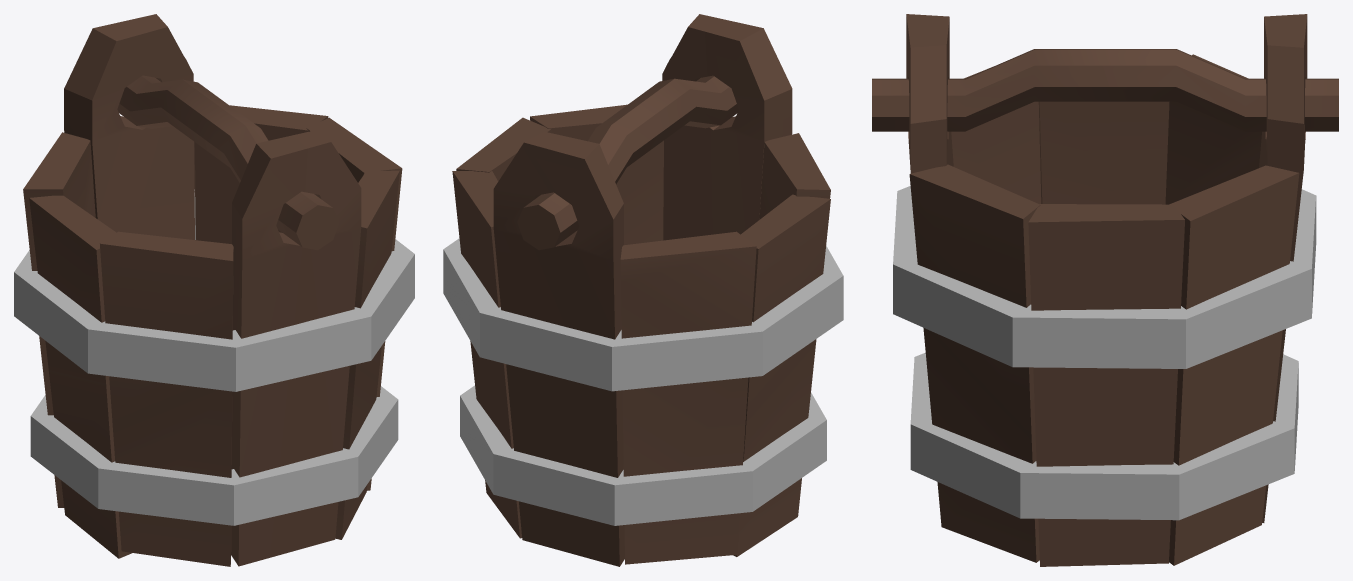
The model's file is bucketCrushed.fbx.
The picture shows the model from 3 angles, left to right: view 1: azimuth 30°, elevation 25°; view 2: azimuth 150°, elevation 25°; view 3: azimuth 270°, elevation 25°; orthographic projection. The views are drawn at different scales.
Parts seen in each view (by area): view 1: polySurface160.001, polySurface167.001, polySurface163.001, polySurface168.002, polySurface170.002, polySurface172.001, polySurface171.002, polySurface162.001, polySurface164.001, polySurface161.001, polySurface175.002, polySurface173.002 (+7 smaller); view 2: polySurface160.001, polySurface155.001, polySurface163.001, polySurface172.001, polySurface159.001, polySurface167.001, polySurface156.001, polySurface162.001, polySurface168.002, polySurface166.001, polySurface161.001, polySurface164.001 (+6 smaller); view 3: polySurface169.002, polySurface164.001, polySurface166.001, polySurface173.002, polySurface157.001, polySurface162.001, polySurface174.002, polySurface175.002, polySurface158.001, polySurface160.001, polySurface170.002, polySurface156.001 (+5 smaller).
Part boxes in pixels (box(x1,y1,x2,y2)): polySurface160.001: box(64, 14, 194, 239); polySurface167.001: box(231, 135, 307, 566); polySurface163.001: box(14, 250, 312, 391); polySurface168.002: box(269, 131, 361, 557); polySurface170.002: box(100, 231, 233, 423); polySurface172.001: box(30, 395, 306, 525); polySurface171.002: box(112, 387, 232, 566); polySurface162.001: box(29, 195, 116, 383); polySurface164.001: box(194, 189, 414, 374); polySurface161.001: box(48, 369, 131, 558); polySurface175.002: box(194, 105, 339, 250); polySurface173.002: box(298, 386, 398, 509); polySurface160.001: box(493, 132, 623, 392); polySurface155.001: box(621, 282, 748, 564); polySurface163.001: box(543, 246, 843, 391); polySurface172.001: box(551, 392, 826, 525); polySurface159.001: box(507, 376, 624, 566); polySurface167.001: box(704, 19, 792, 234); polySurface156.001: box(620, 231, 756, 330); polySurface162.001: box(741, 194, 830, 415); polySurface168.002: box(662, 14, 723, 240); polySurface166.001: box(452, 171, 521, 538); polySurface161.001: box(733, 339, 816, 556); polySurface164.001: box(443, 238, 550, 373); polySurface169.002: box(1028, 204, 1184, 566); polySurface164.001: box(893, 232, 1313, 368); polySurface166.001: box(1169, 165, 1299, 565); polySurface173.002: box(910, 396, 1296, 520); polySurface157.001: box(909, 164, 1040, 440); polySurface162.001: box(1038, 101, 1169, 204); polySurface174.002: box(1096, 49, 1338, 131); polySurface175.002: box(872, 49, 1111, 131); polySurface158.001: box(923, 328, 1039, 562); polySurface160.001: box(1259, 14, 1307, 336); polySurface170.002: box(951, 68, 1041, 204); polySurface156.001: box(1165, 54, 1261, 204).
Size of the model in its own units: 57.98 by 71.59 by 63.96.
